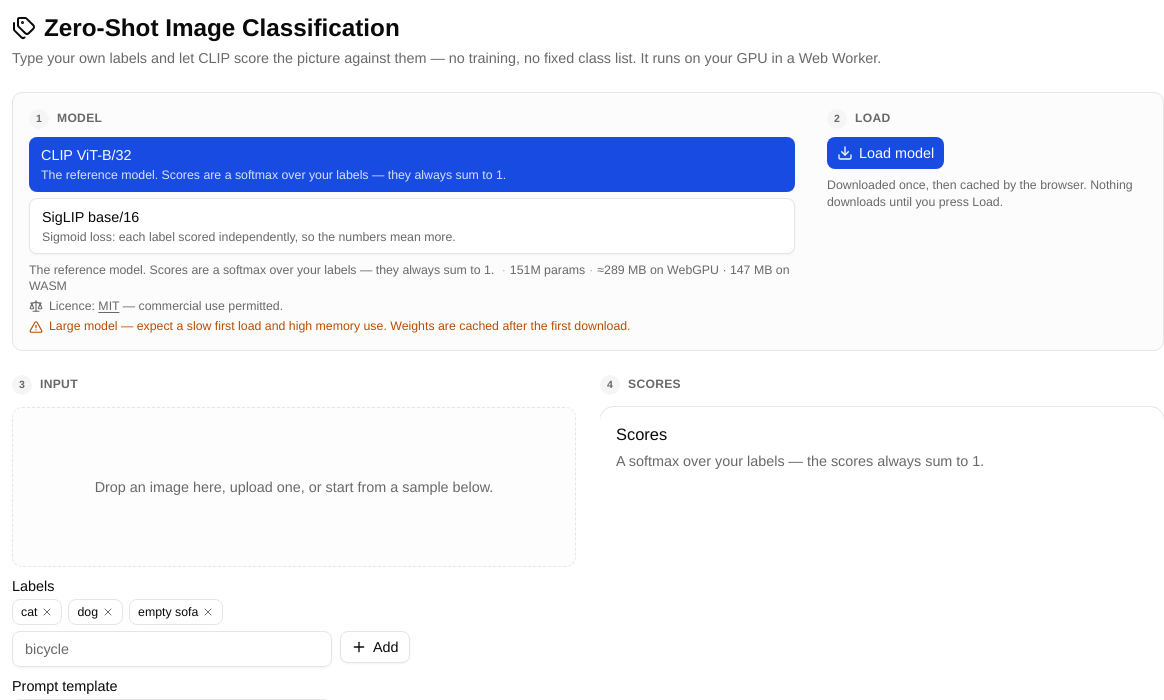
it: ZeroShotImageClassificationPage › starts from a label set the user can edit
This screenshot has width=1164, height=700.
Expected: the text "cat" is shown, [12,599,62,625]
Click the button named "remove dog".
click(108, 612)  # box [102,606,114,618]
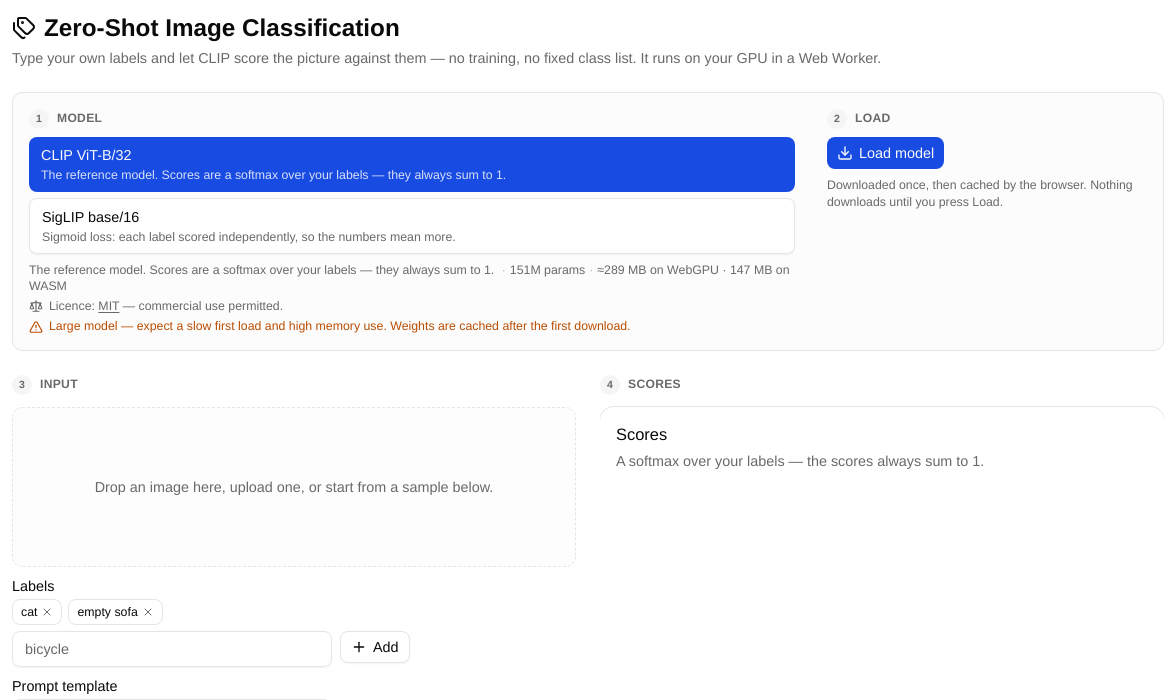
Expected: the text "dog" is not shown
Type "a bicycle" into the field labelled "Labels".
click(172, 649); type("a bicycle")  # box [12,631,332,667]
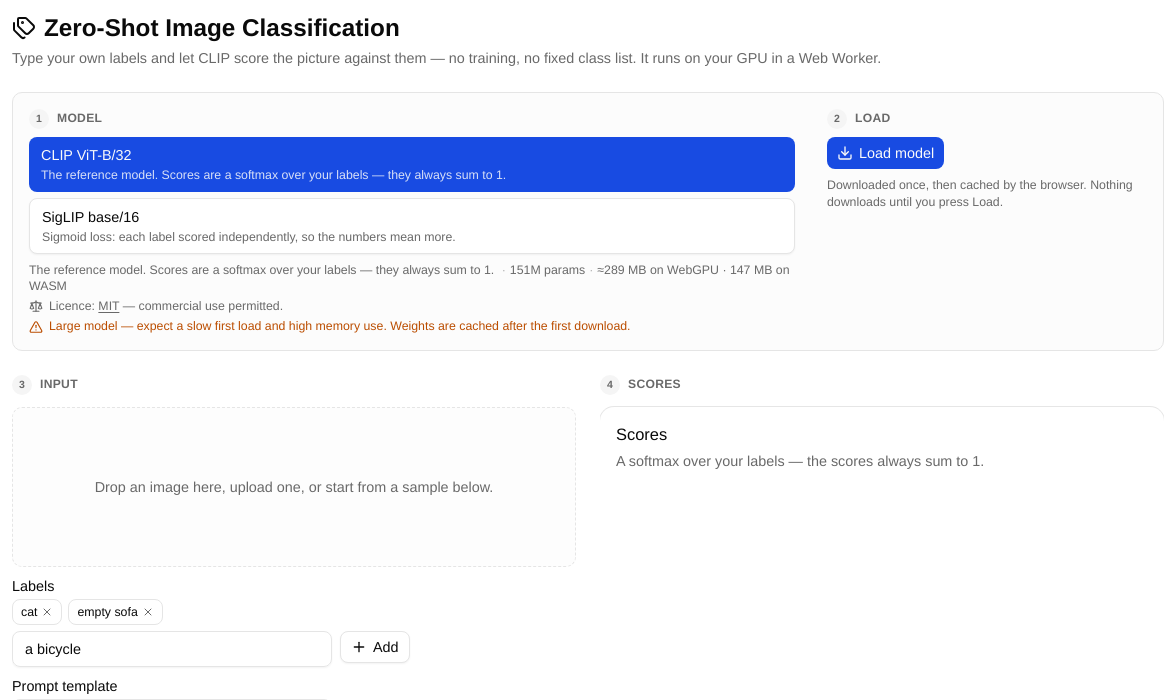
Click the button "Add".
click(375, 647)  # box [340,631,410,663]
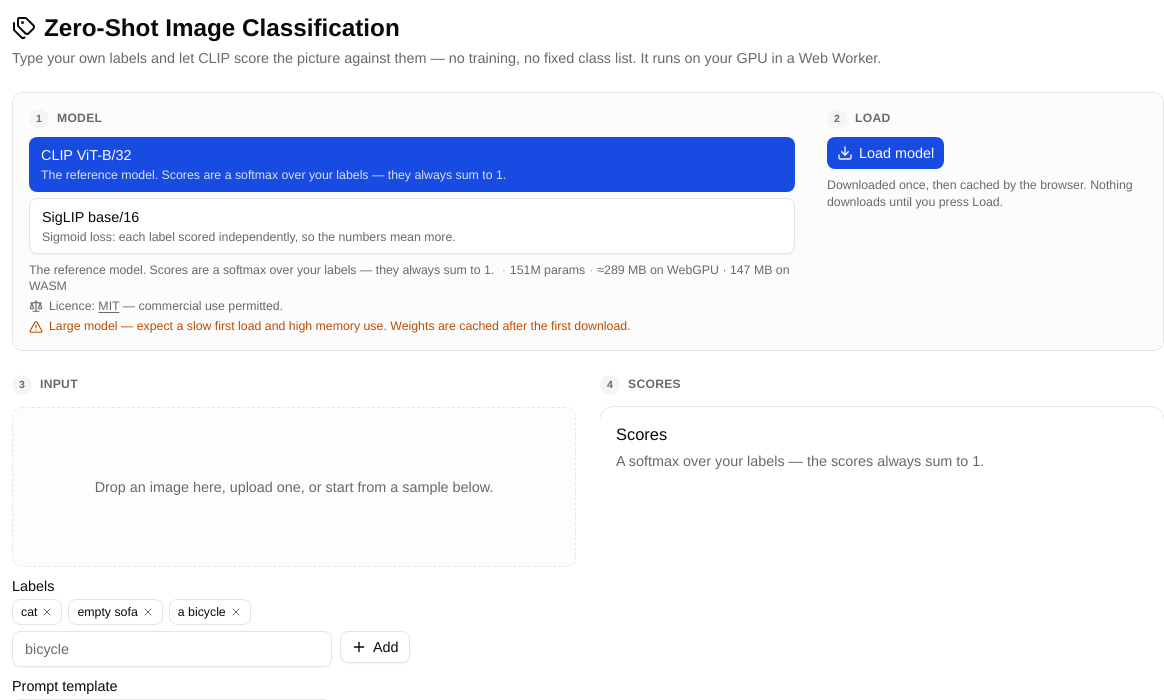
Expected: the text "a bicycle" is shown, [169,599,251,625]
